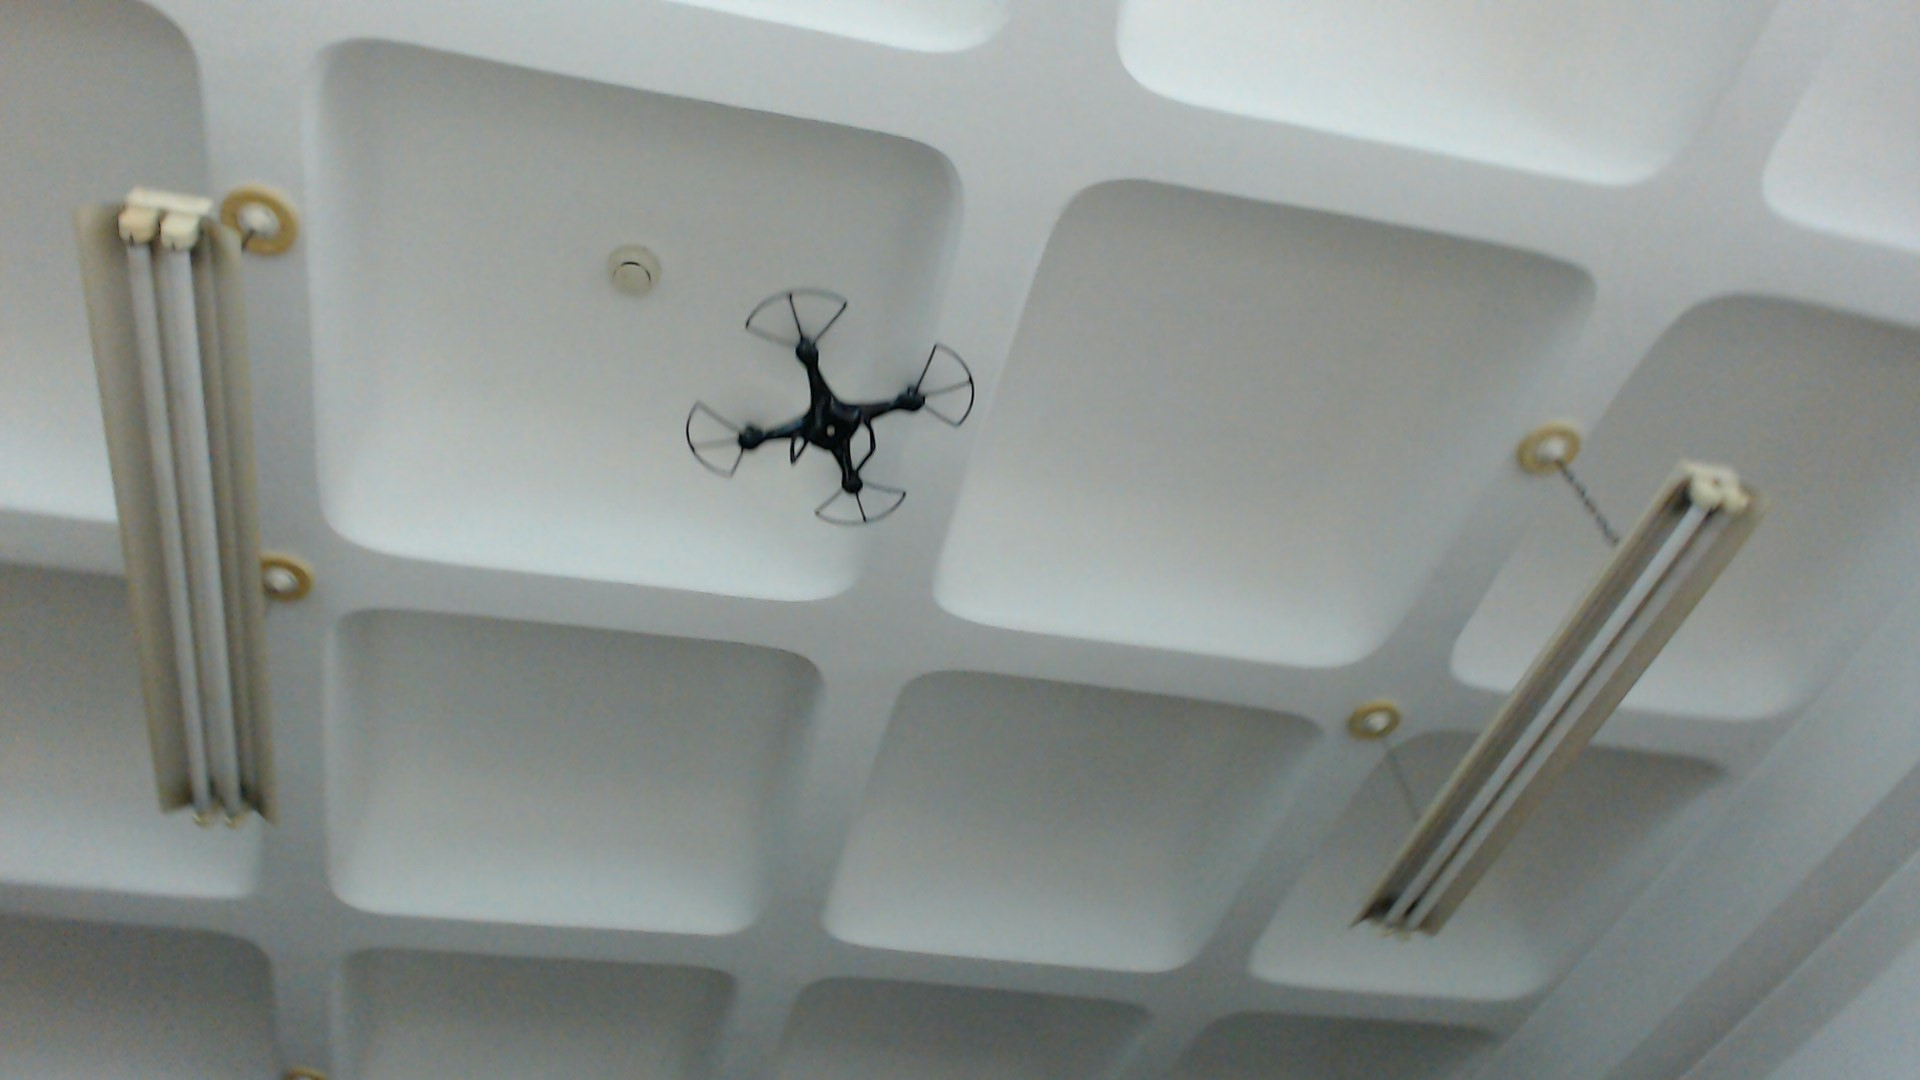test_drone: (684, 284, 980, 533)
